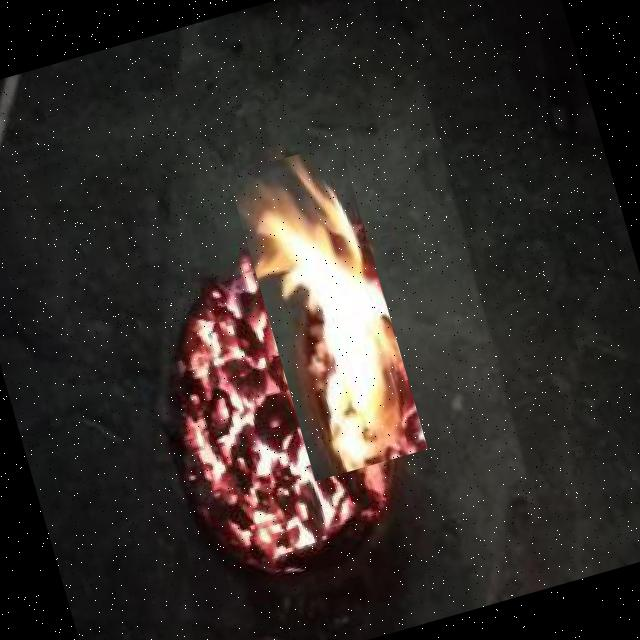fire: (228, 142, 428, 480)
